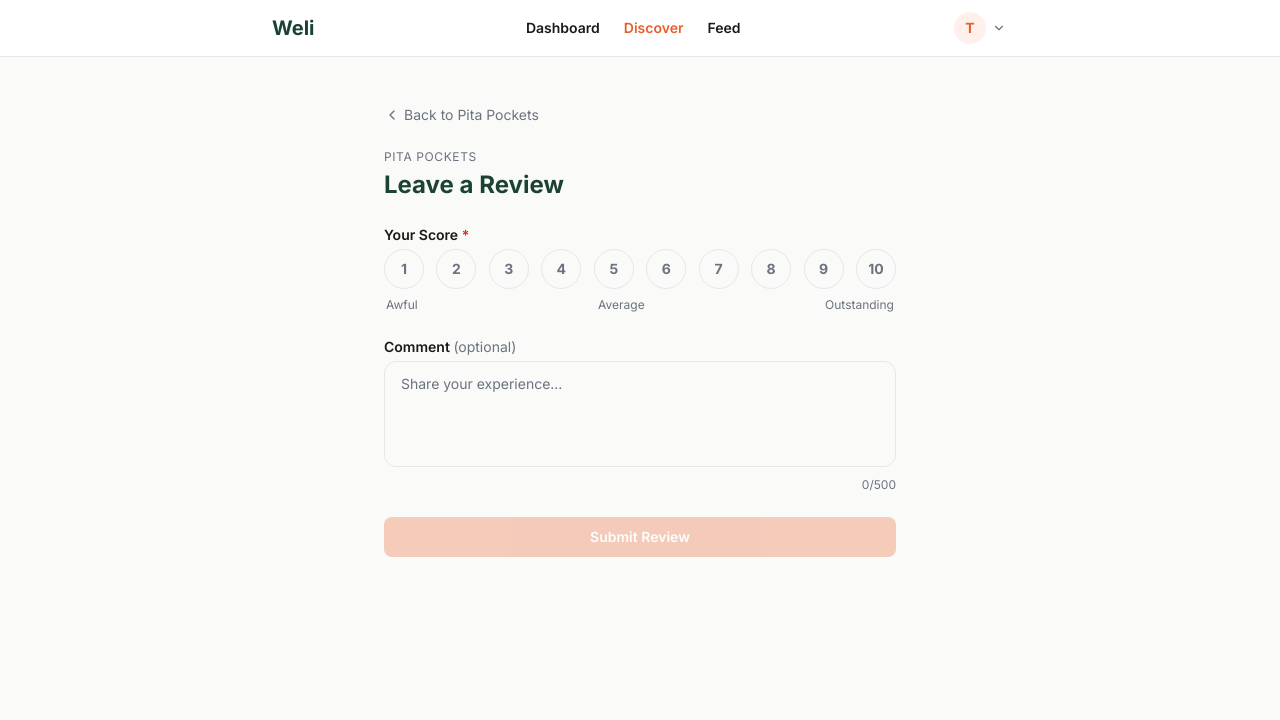
Test: ReviewFormPage — create mode › updates the character count as the user types
Type "Hello" into the text box labelled "Comment (optional)" at (640, 414), box [384, 361, 896, 467]
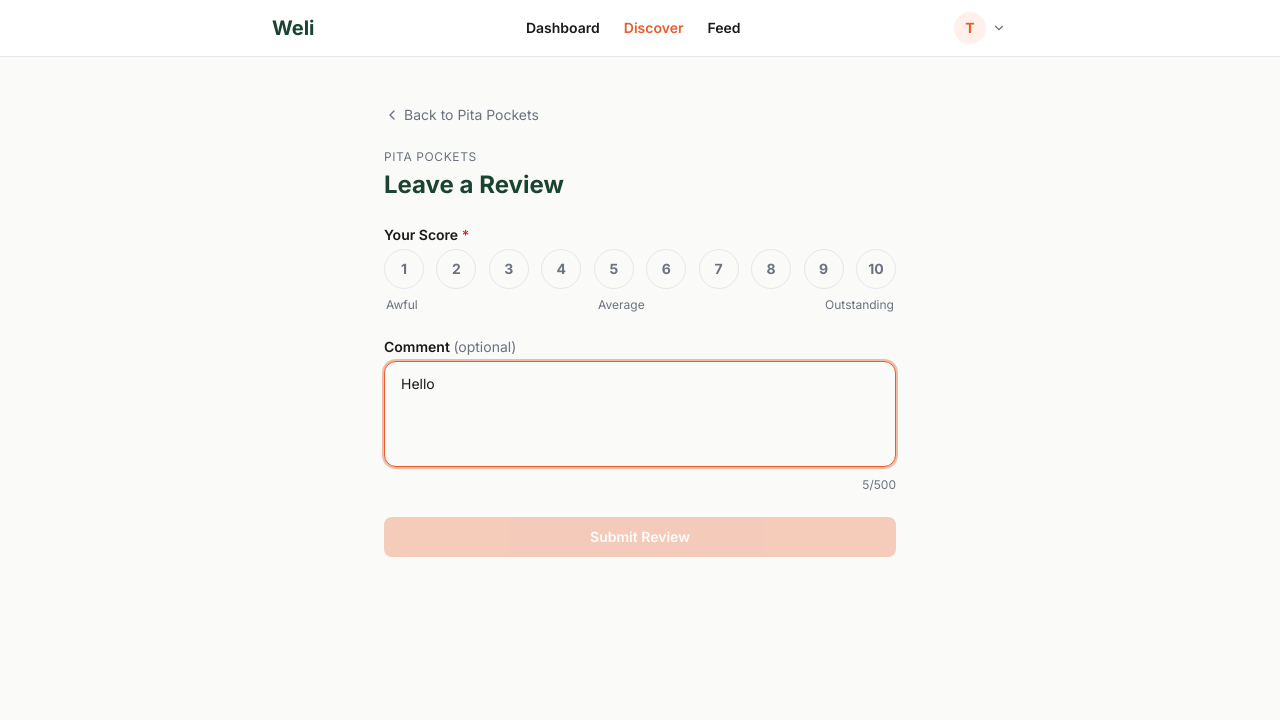
Check: the text "5/500" is shown, box [862, 477, 896, 492]
